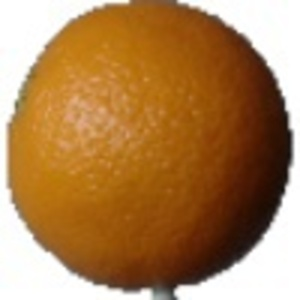laranja: (5, 3, 292, 291)
